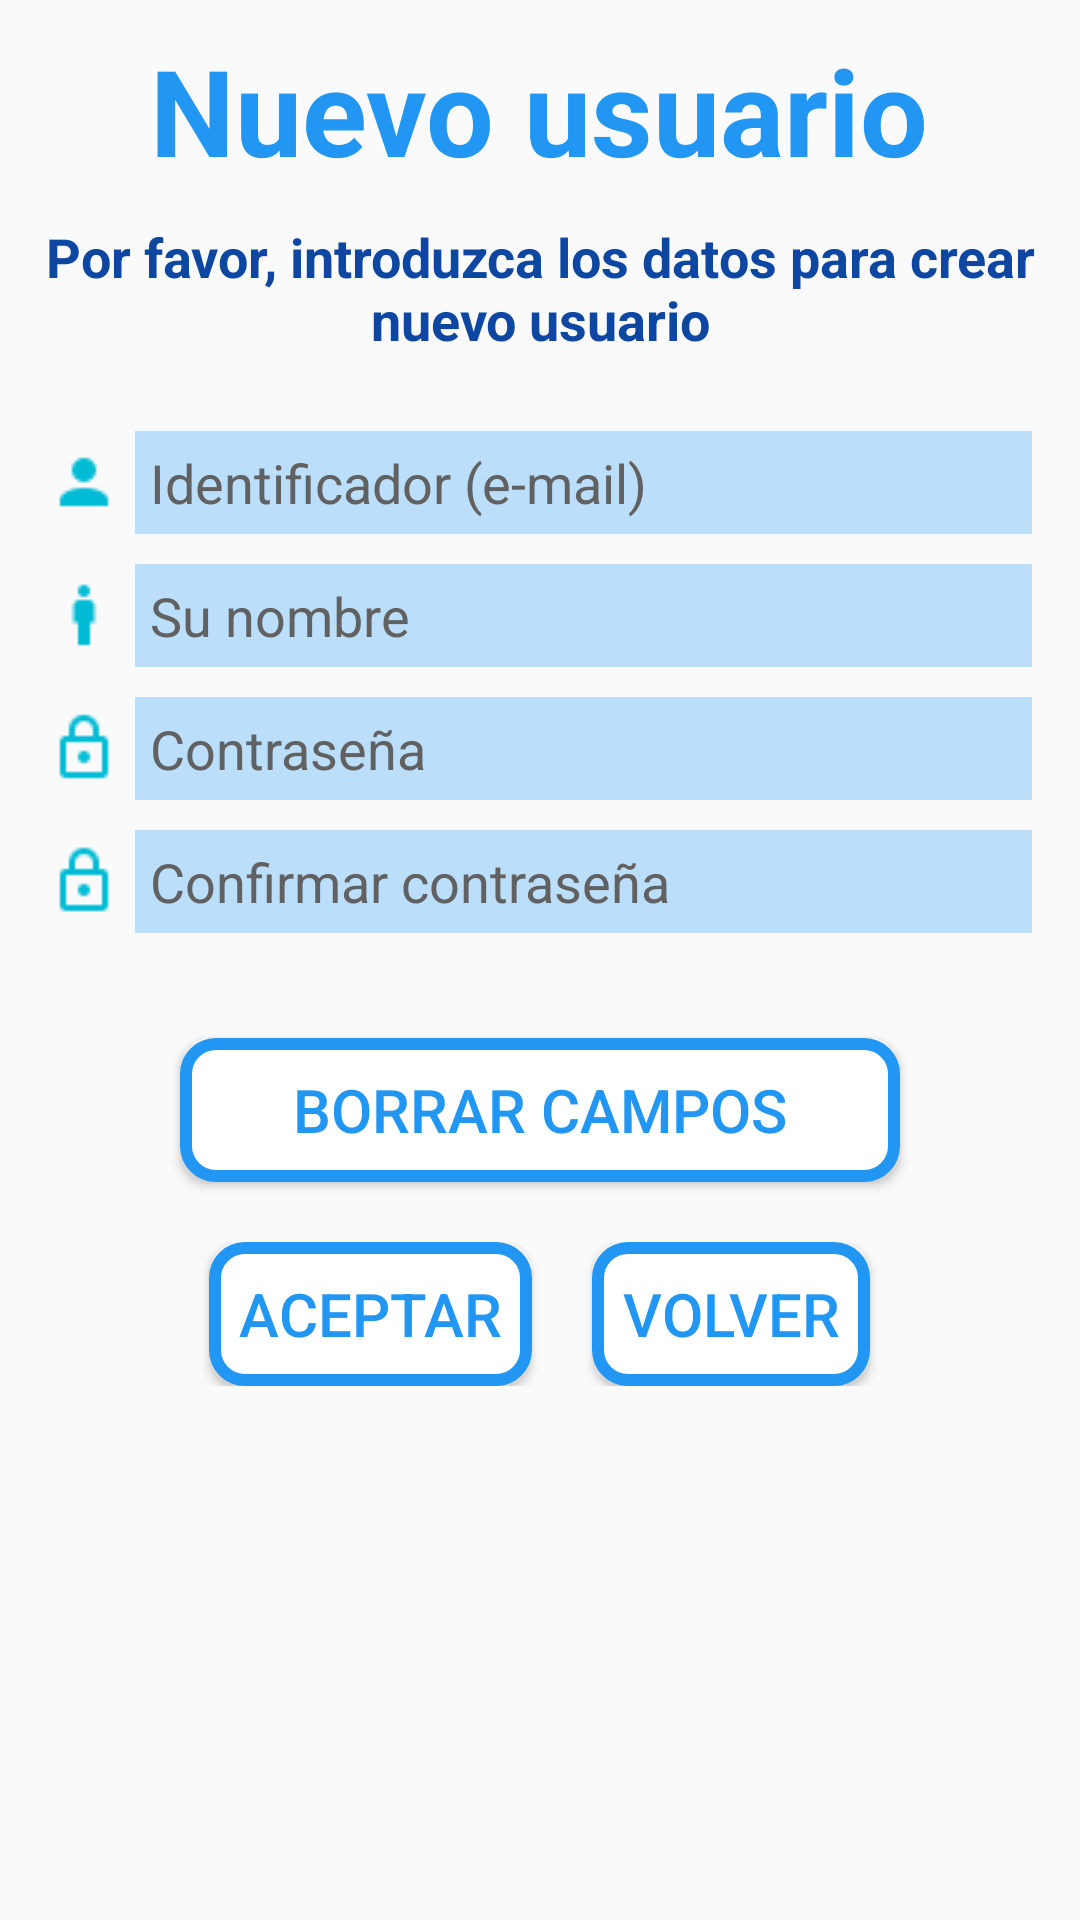

Icons on this 1080×1920 Android screen, each with its box as (x1, y1, x2, y2):
account: (59, 457, 109, 507)
icononombre: (71, 584, 97, 646)
iconopass: (59, 714, 109, 779), (59, 847, 109, 912)
